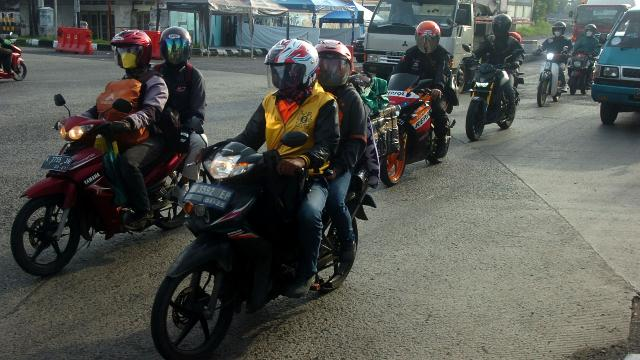helm: (265, 38, 320, 99), (312, 40, 354, 93), (111, 28, 154, 74), (162, 26, 195, 68), (416, 21, 442, 55), (492, 15, 514, 40), (552, 22, 568, 40), (585, 25, 598, 39)
motor: (150, 116, 379, 356), (11, 93, 208, 279), (373, 67, 459, 189), (460, 44, 526, 145), (538, 43, 572, 110), (567, 46, 599, 99), (1, 30, 27, 83)
